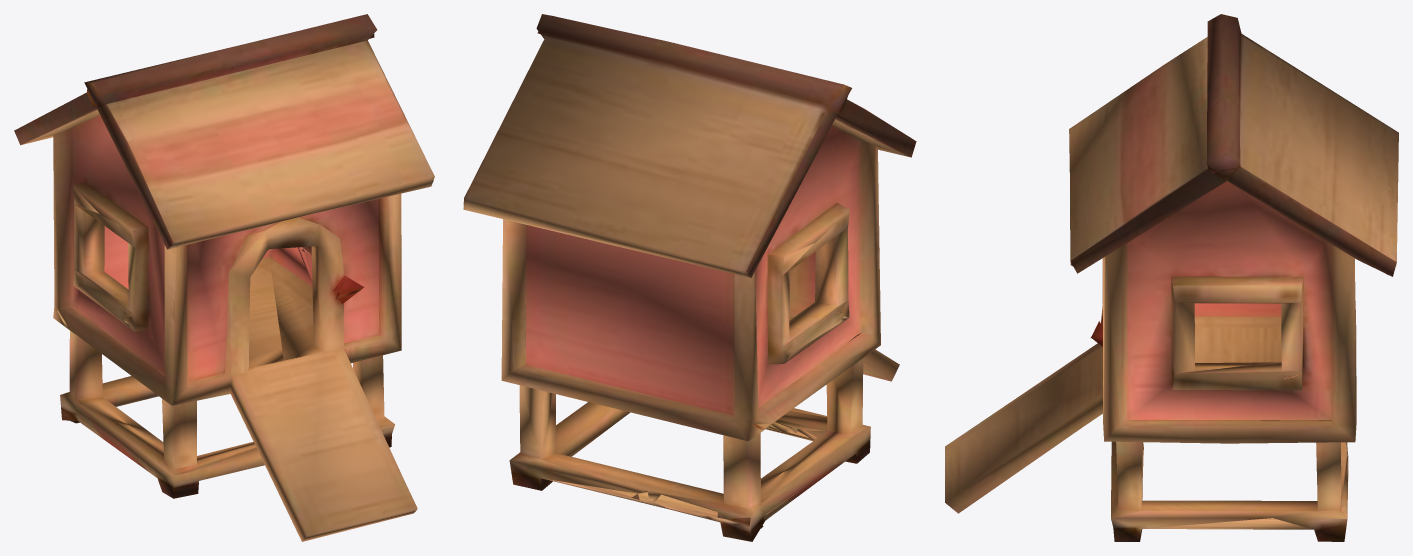
Rendered from lg-chicken-coop.glb.
3 renders of one model, left to right at view 1: azimuth 30°, elevation 25°; view 2: azimuth 150°, elevation 25°; view 3: azimuth 270°, elevation 25°, orthographic. The views are drawn at different scales.
Visible parts, largest first — view 1: geometry_0; view 2: geometry_0; view 3: geometry_0.
Boxes of the visible parts, left/top/right/bottom form: geometry_0: left=14, top=14, right=434, bottom=541; geometry_0: left=463, top=14, right=916, bottom=541; geometry_0: left=945, top=14, right=1398, bottom=541.
Bounding box in the file's own units: 0.7377 × 0.983 × 1.
Materials: 1 (1 with a texture image).
